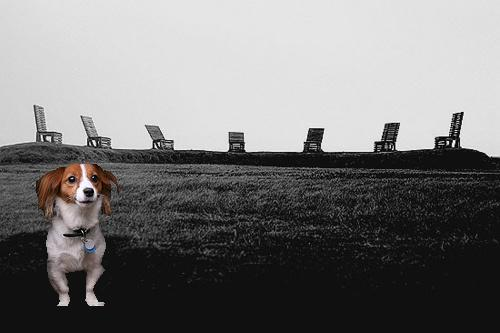tampered: (37, 164, 119, 306)
